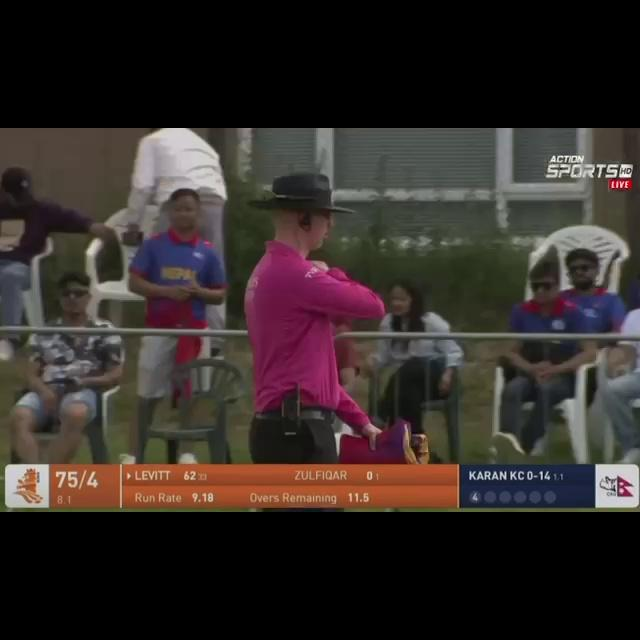umpire: (213, 161, 440, 463)
